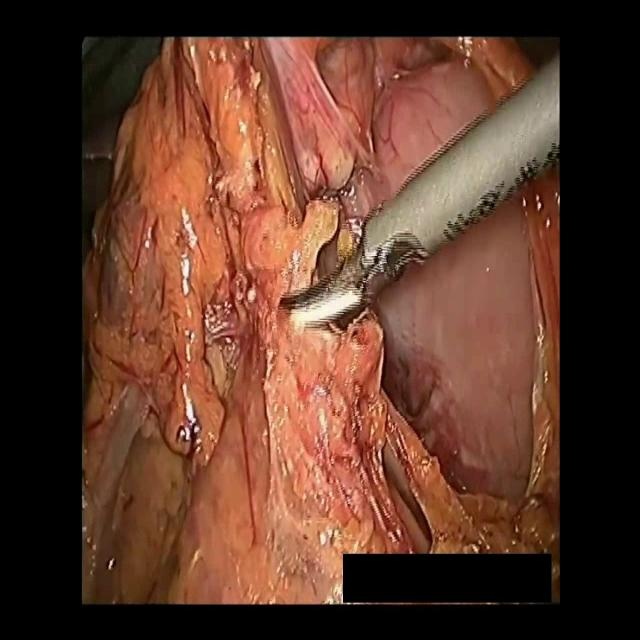surgical-area: (82, 31, 562, 605)
surgical-tool: (274, 48, 560, 327)
